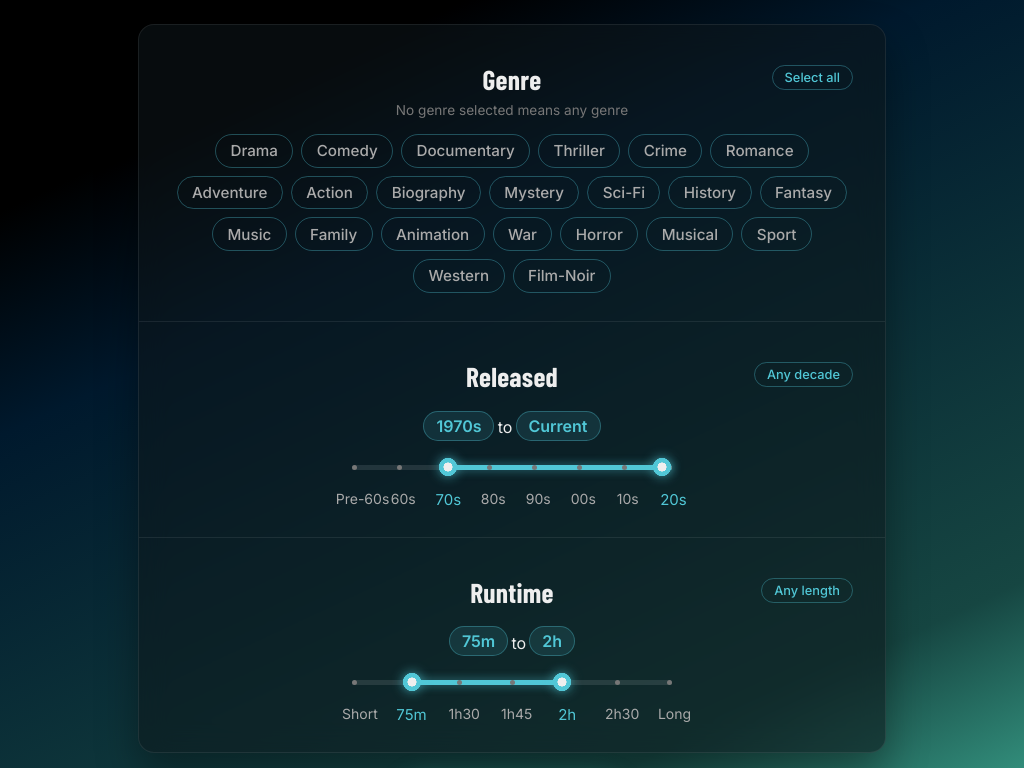
Test: <ChoiceFormContainer/> › slider all buttons switch between any and reset
Click the button with test id "decade-all-btn".
click(804, 374)  # box [754,362,853,387]
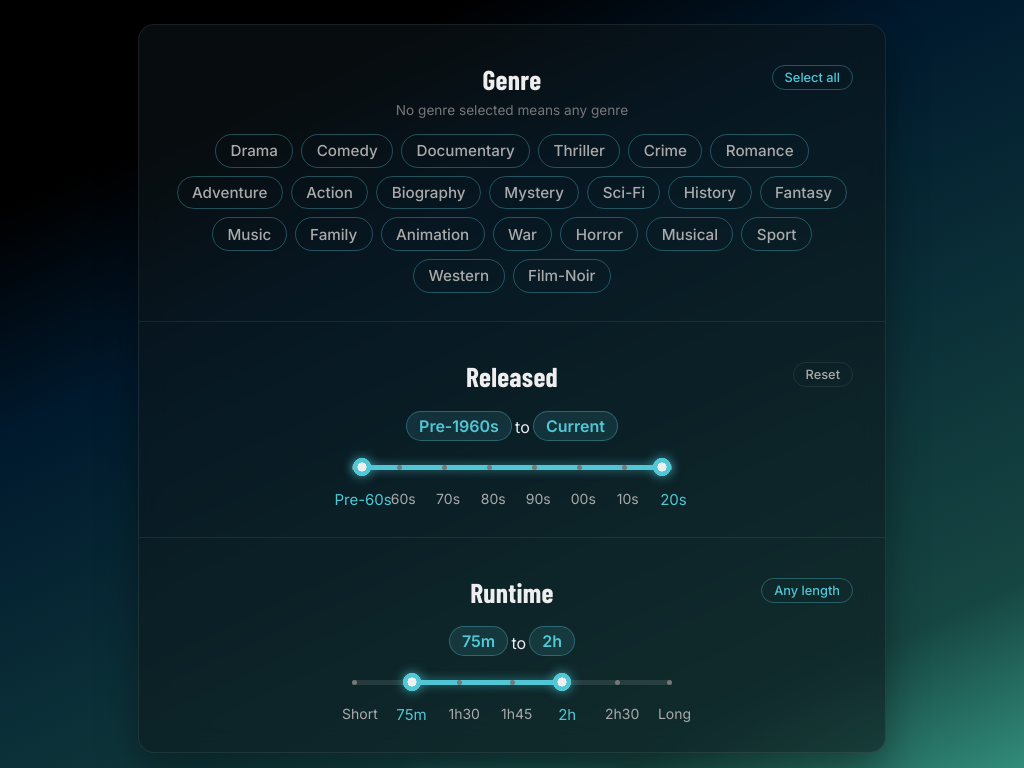
Expected: the button with test id "decade-all-btn" reads "Reset", [793,362,853,387]
